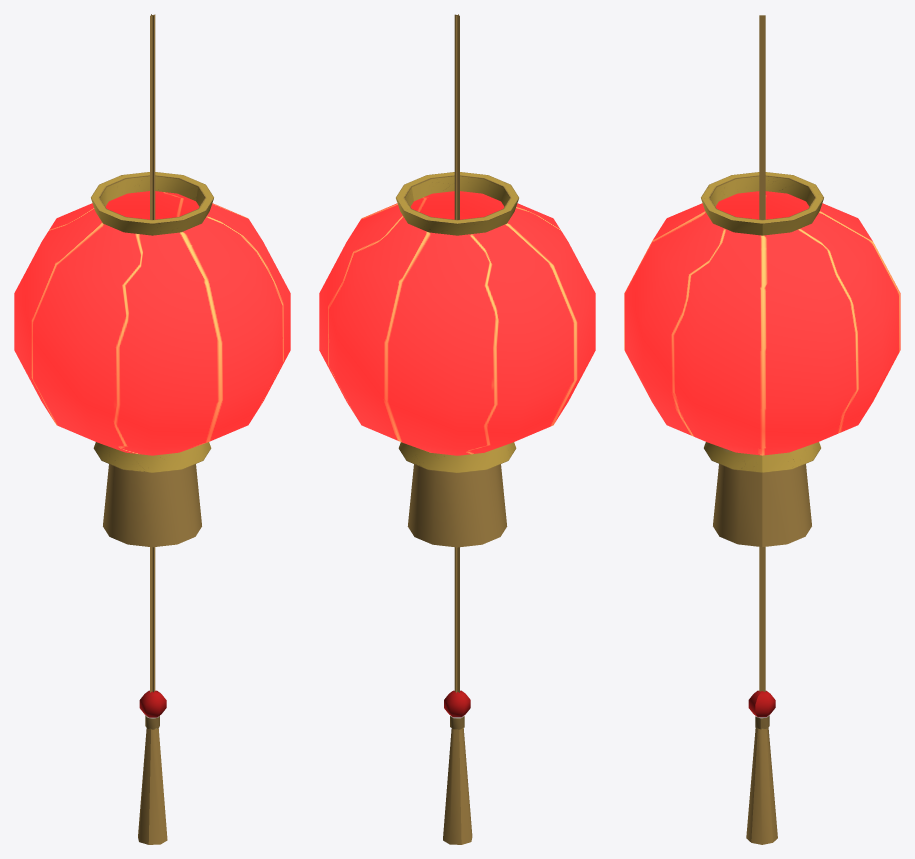
The model's file is lantern01.fbx.
3 views of the same model, side by side, from view 1: azimuth 30°, elevation 25°; view 2: azimuth 150°, elevation 25°; view 3: azimuth 270°, elevation 25° (orthographic).
Parts seen in each view (by area): view 1: lantern01; view 2: lantern01; view 3: lantern01.
Boxes of the visible parts, x1,y1,x2,y2 form: lantern01: (14, 14, 290, 844); lantern01: (319, 14, 595, 844); lantern01: (624, 15, 900, 844).
Size of the model in its own units: 60.82 by 200 by 60.82.
1 material, 1 textured.
